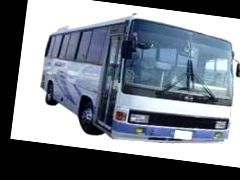bus: (35, 3, 240, 155)
